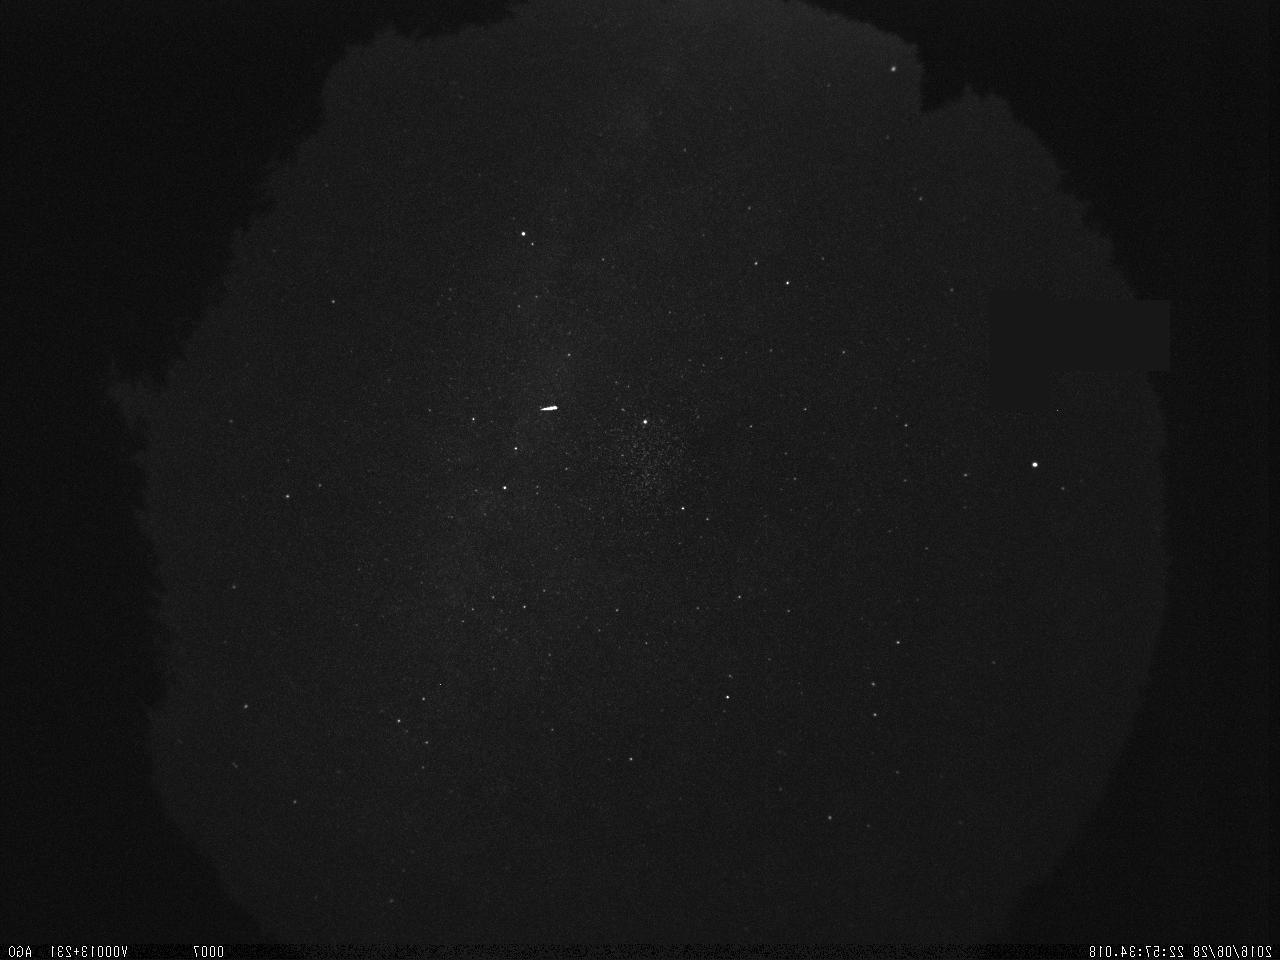meteor: (536, 399, 563, 423)
